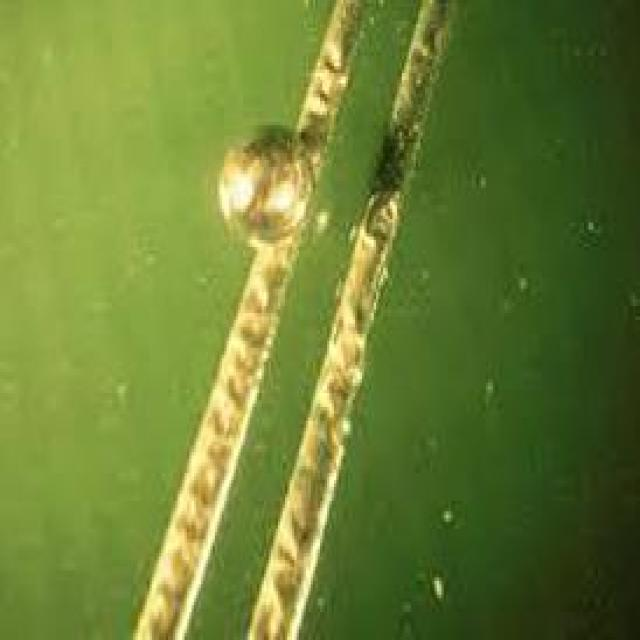slug: (212, 115, 316, 243)
